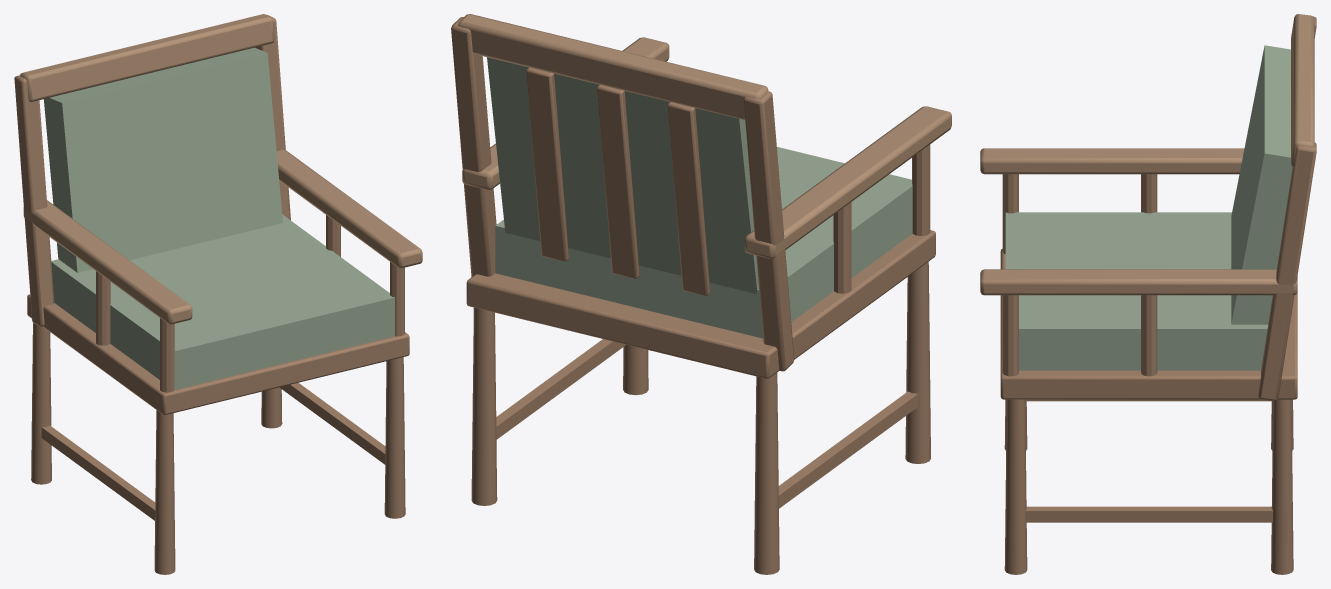
The model's file is dn_armchair.fbx.
3 renders of one model, left to right at view 1: azimuth 30°, elevation 25°; view 2: azimuth 150°, elevation 25°; view 3: azimuth 270°, elevation 25°, orthographic. The views are drawn at different scales.
Parts seen in each view (by area): view 1: BackCushion, SeatCushion.001, SeatFrame.001, BackRail, ArmRest, BackPost, ArmRest.001, Leg.010, Leg.012, Leg.011, Stretcher, Stretcher.001 (+5 smaller); view 2: BackCushion, SeatCushion.001, SeatFrame.001, BackRail, ArmRest, BackPost, BackPost.001, BackSlat.002, BackSlat.001, BackSlat, Leg.011, Leg.013 (+7 smaller); view 3: SeatCushion.001, BackCushion, SeatFrame.001, ArmRest.001, ArmRest, BackPost.001, Stretcher.001, Leg.012, Leg.013, BackRail, ArmPost.003, ArmPost.002 (+3 smaller).
Part boxes in pixels (x1=…): BackCushion: x1=43, y1=47, x2=282, y2=272; SeatCushion.001: x1=51, y1=214, x2=394, y2=389; SeatFrame.001: x1=27, y1=294, x2=409, y2=414; BackRail: x1=20, y1=14, x2=274, y2=101; ArmRest: x1=23, y1=200, x2=192, y2=324; BackPost: x1=14, y1=75, x2=54, y2=326; ArmRest.001: x1=276, y1=149, x2=422, y2=268; Leg.010: x1=154, y1=410, x2=175, y2=574; Leg.012: x1=384, y1=357, x2=405, y2=518; Leg.011: x1=31, y1=323, x2=51, y2=484; Stretcher: x1=41, y1=425, x2=155, y2=520; Stretcher.001: x1=279, y1=382, x2=385, y2=464; BackCushion: x1=487, y1=57, x2=758, y2=294; SeatCushion.001: x1=495, y1=147, x2=912, y2=338; SeatFrame.001: x1=466, y1=230, x2=935, y2=378; BackRail: x1=458, y1=14, x2=768, y2=119; ArmRest: x1=745, y1=106, x2=951, y2=258; BackPost: x1=743, y1=91, x2=794, y2=371; BackPost.001: x1=451, y1=17, x2=496, y2=277; BackSlat.002: x1=526, y1=67, x2=568, y2=261; BackSlat.001: x1=597, y1=84, x2=639, y2=278; BackSlat: x1=667, y1=102, x2=710, y2=296; Leg.011: x1=754, y1=372, x2=779, y2=574; Leg.013: x1=471, y1=307, x2=497, y2=505; SeatCushion.001: x1=1005, y1=212, x2=1268, y2=370; BackCushion: x1=1231, y1=45, x2=1292, y2=324; SeatFrame.001: x1=1000, y1=248, x2=1297, y2=399; ArmRest.001: x1=980, y1=269, x2=1297, y2=295; ArmRest: x1=980, y1=148, x2=1244, y2=174; BackPost.001: x1=1258, y1=142, x2=1316, y2=400; Stretcher.001: x1=1025, y1=506, x2=1273, y2=522; Leg.012: x1=1004, y1=399, x2=1027, y2=574; Leg.013: x1=1271, y1=399, x2=1293, y2=574; BackRail: x1=1291, y1=14, x2=1314, y2=167; ArmPost.003: x1=1141, y1=295, x2=1157, y2=376; ArmPost.002: x1=1002, y1=295, x2=1018, y2=376.
Size of the model in its own units: 0.62 by 0.9314 by 0.6572.
